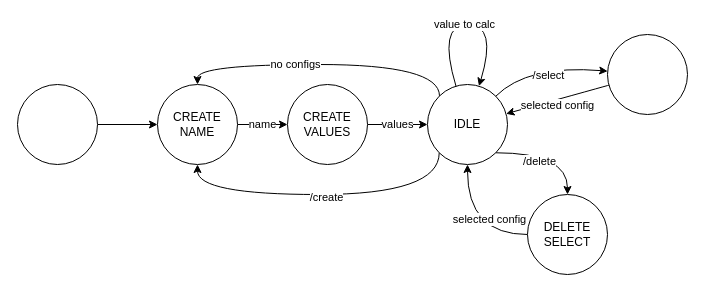
Image size: 705x292. Some labels were removed from this diagram. Here are the shapes that lost their labels. From the top down, the centre of each, then its label:
At point (647, 74): "SELECT".
At point (57, 124): "START".
